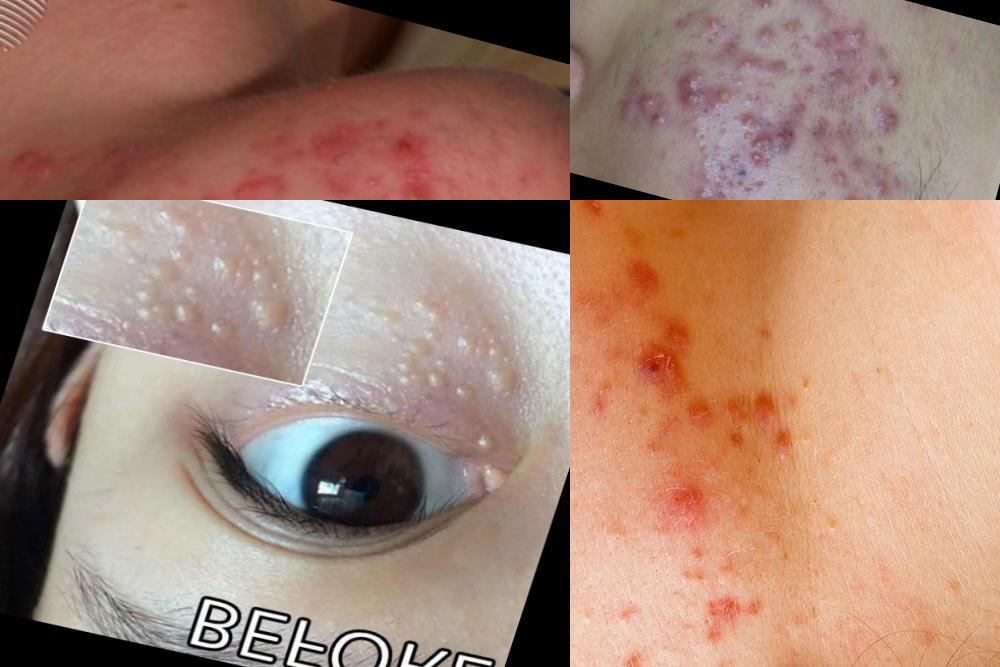blackhead: (785, 469, 861, 548), (571, 569, 614, 667), (669, 549, 726, 604), (739, 88, 761, 114)
folliculitis: (985, 588, 1000, 667)
papular: (685, 365, 790, 452), (657, 462, 727, 537), (293, 107, 364, 179), (1, 124, 69, 199), (372, 112, 437, 178), (824, 163, 857, 191), (644, 107, 674, 130), (859, 68, 882, 93), (822, 194, 860, 201)
purulent: (701, 13, 733, 40), (849, 14, 873, 48), (58, 184, 105, 201), (867, 177, 891, 201), (736, 112, 761, 134), (714, 82, 733, 110), (747, 148, 768, 170), (737, 55, 759, 75), (756, 1, 777, 20), (781, 15, 799, 37), (196, 187, 223, 201)
sebo-crystan-conglo: (634, 334, 692, 399), (810, 40, 862, 92), (673, 62, 718, 118), (754, 116, 802, 156), (866, 95, 906, 140), (226, 167, 266, 201), (686, 177, 723, 201), (637, 86, 664, 112), (885, 70, 908, 92)
syringoma: (159, 271, 303, 359), (85, 201, 220, 270), (204, 243, 299, 298), (400, 296, 483, 354), (114, 270, 175, 333), (386, 349, 453, 402), (477, 365, 540, 415), (465, 427, 503, 460), (447, 379, 478, 408)
